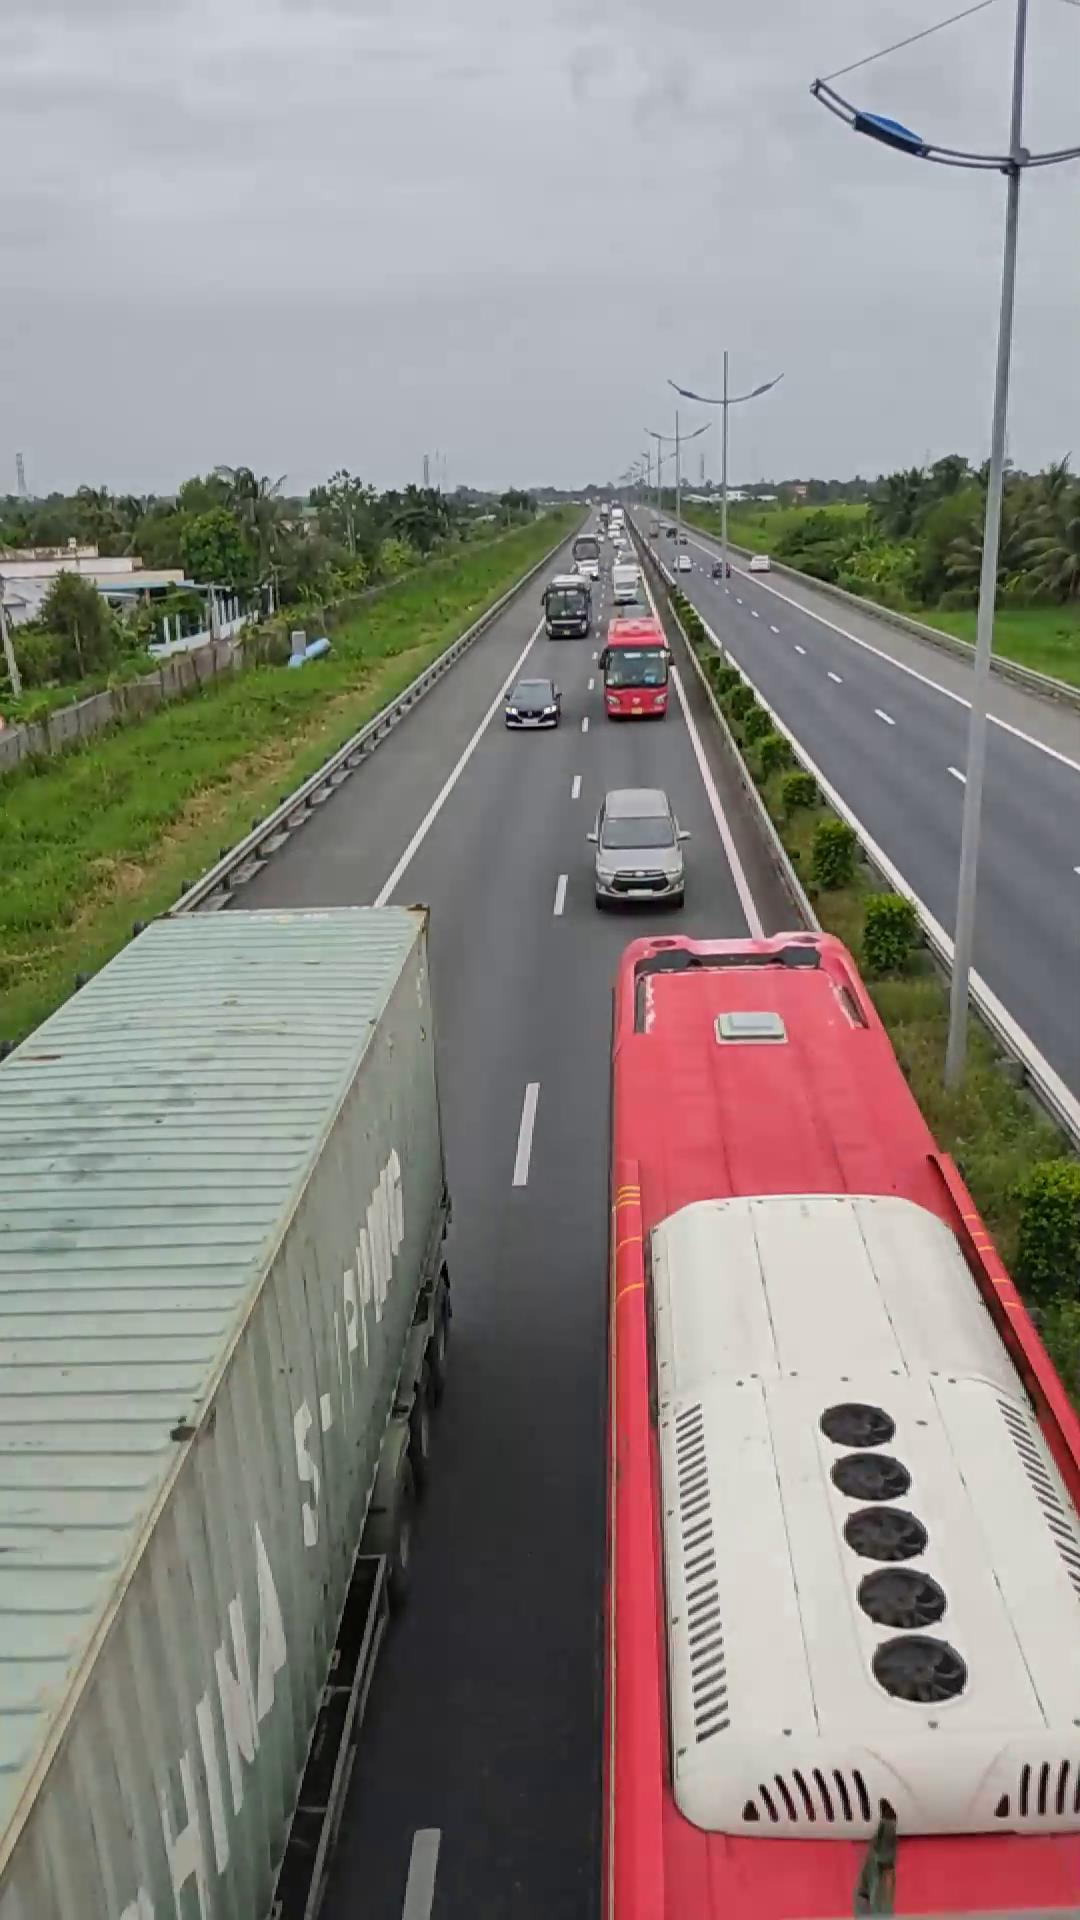bus: (600, 926, 1071, 1913)
car: (587, 787, 690, 910)
container: (0, 901, 463, 1919)
